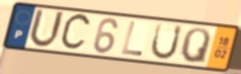6: (91, 17, 119, 56)
C: (58, 11, 94, 53)
L: (120, 20, 144, 58)
Q: (178, 26, 213, 66)
U: (27, 7, 66, 50), (149, 22, 185, 61)
